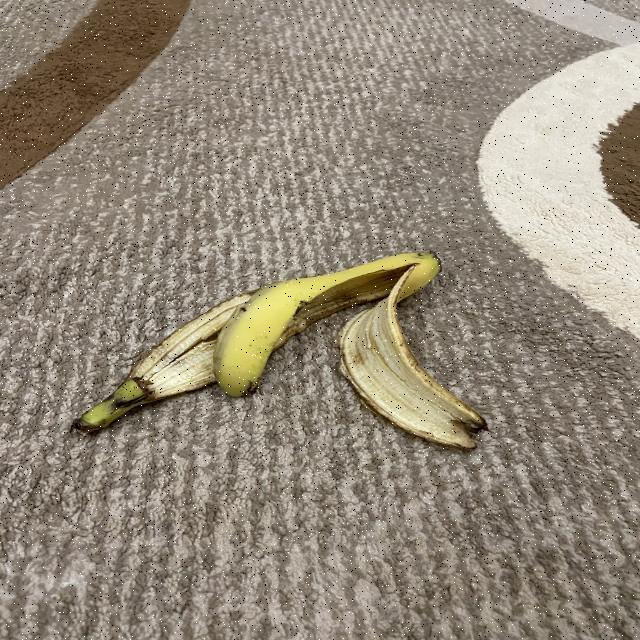banana-peel: (70, 247, 487, 450), (211, 248, 441, 398), (336, 264, 488, 450), (69, 291, 252, 435)
